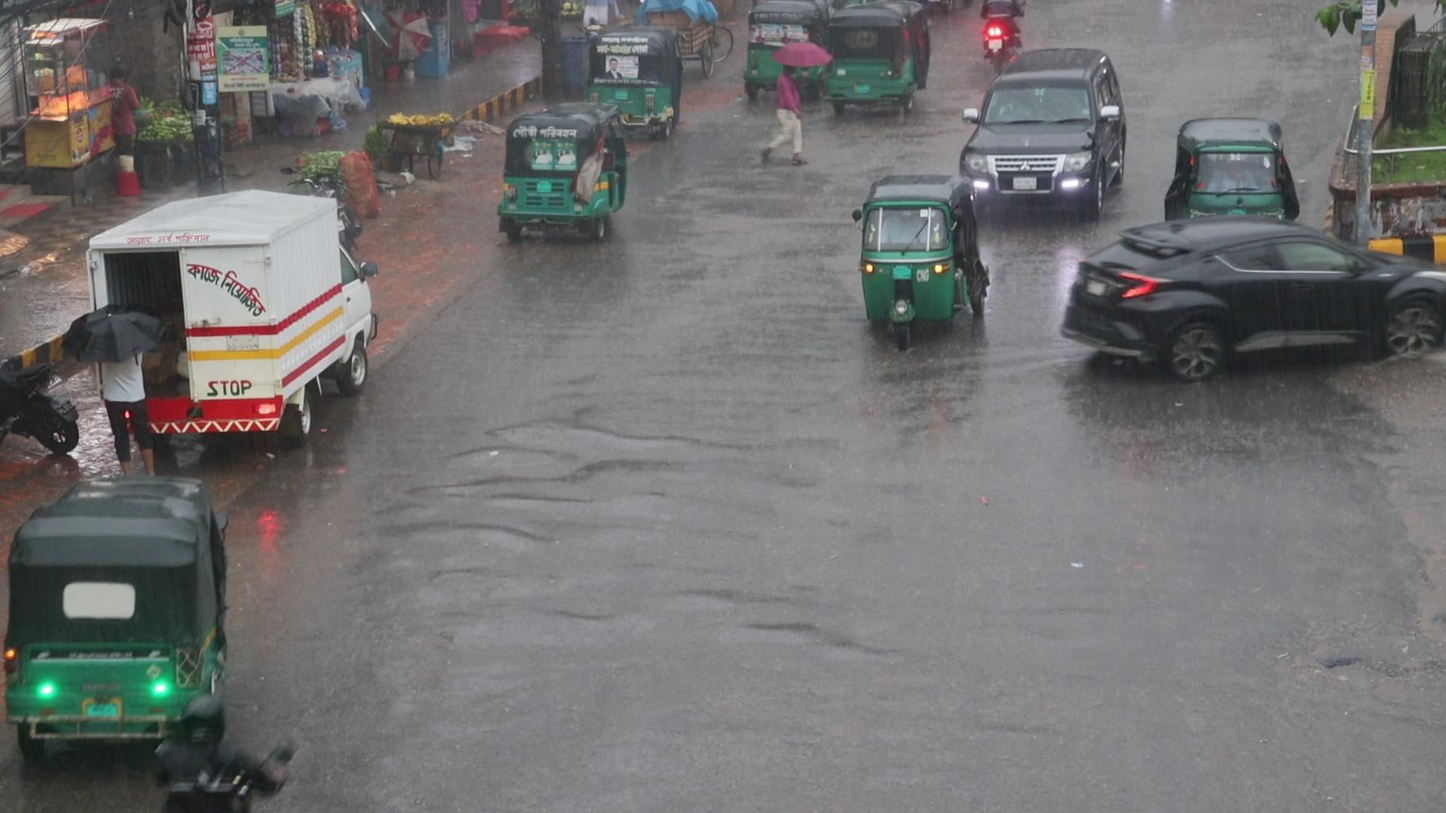Car: (1057, 210, 1446, 388), (960, 42, 1126, 208)
